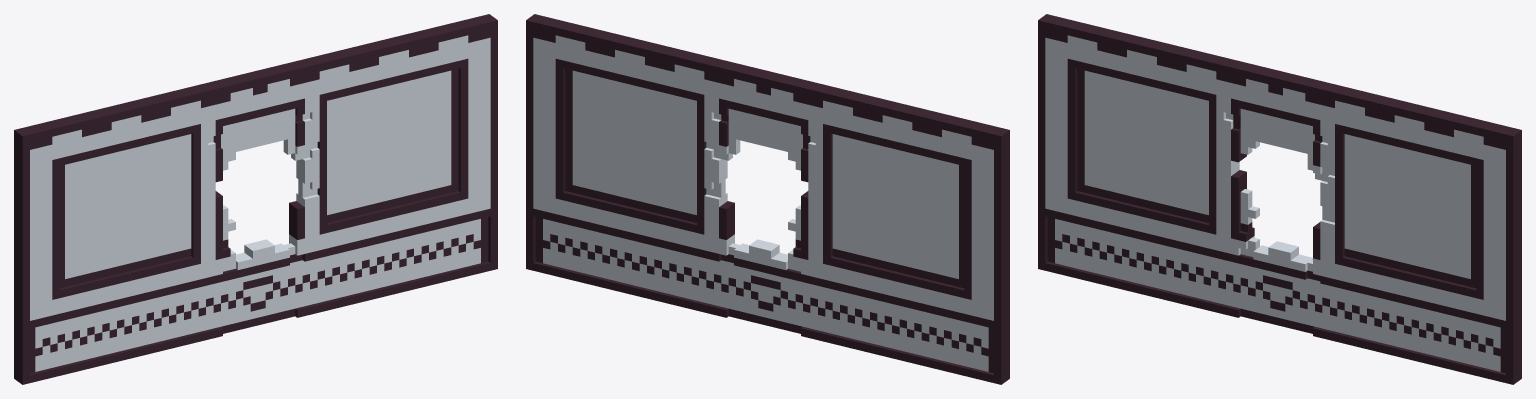
File: Panel Wall (64x32x4) With Hole.fbx
3 views of the same model, side by side, from view 1: azimuth 30°, elevation 25°; view 2: azimuth 150°, elevation 25°; view 3: azimuth 330°, elevation 25° (orthographic).
Visible parts, largest first — view 1: generated; view 2: generated; view 3: generated.
Boxes of the visible parts, x1,y1,x2,y2 form: generated: (14, 14, 497, 384); generated: (526, 14, 1009, 384); generated: (1038, 14, 1521, 384).
Size of the model in its own units: 2560 by 1280 by 80.
